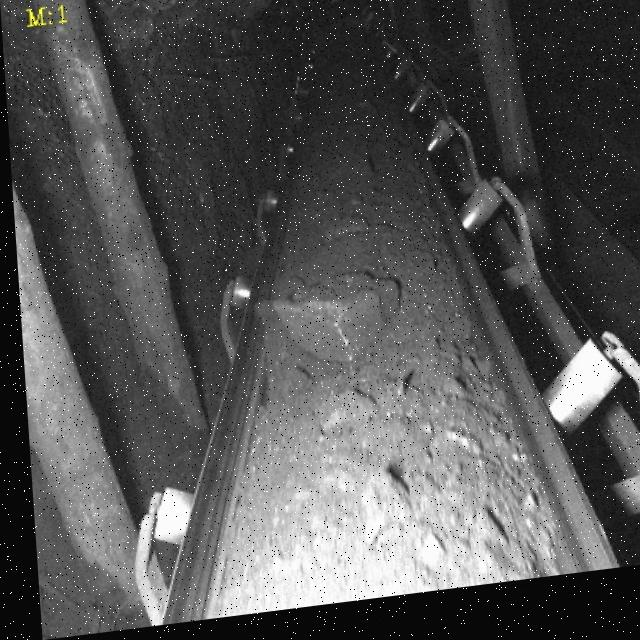large_sized_coal: (273, 280, 394, 374), (304, 394, 373, 444)
